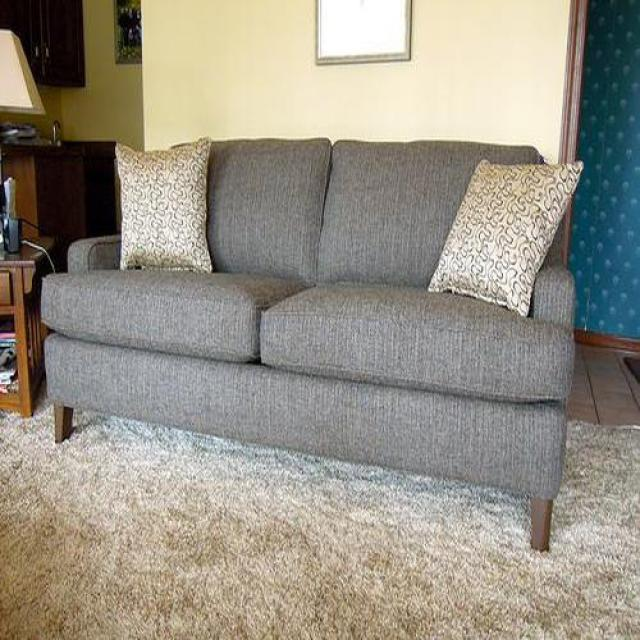sofa: (38, 140, 582, 550)
